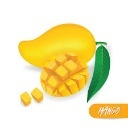mango: (18, 23, 97, 71)
